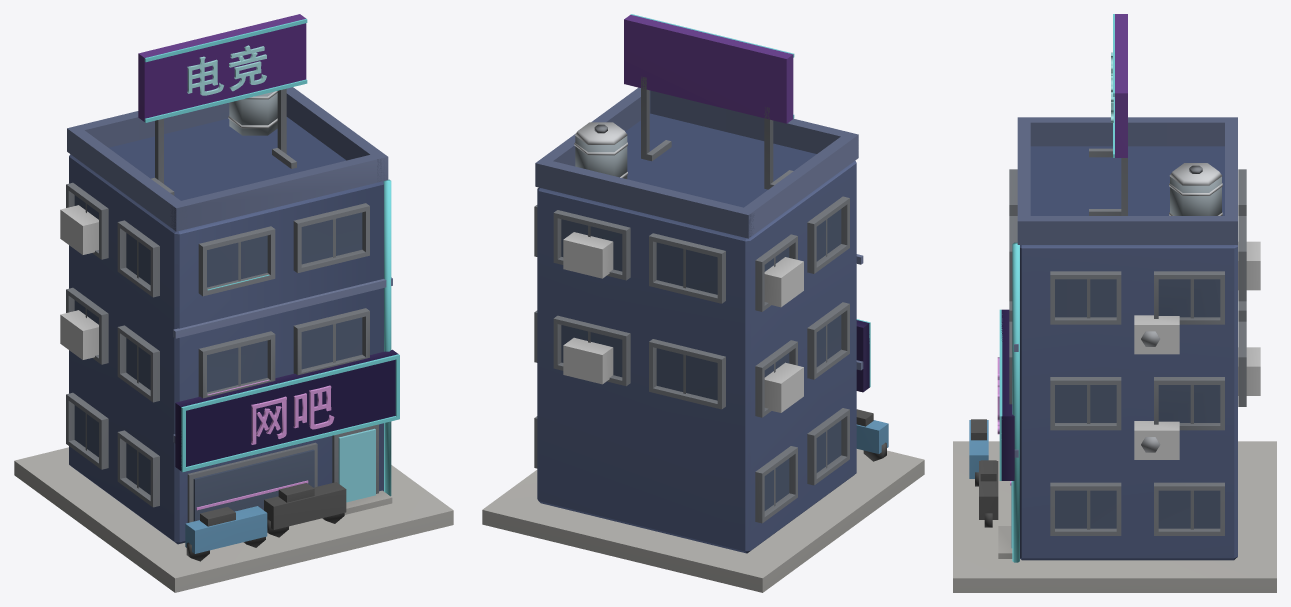
The model's file is net-cafe.glb.
3 renders of one model, left to right at view 1: azimuth 30°, elevation 25°; view 2: azimuth 150°, elevation 25°; view 3: azimuth 270°, elevation 25°, orthographic.
Parts seen in each view (by area): view 1: net-cafe; view 2: net-cafe; view 3: net-cafe.
Part boxes in pixels (x1,y1,x2,y2): net-cafe: [14, 14, 453, 592]; net-cafe: [482, 14, 924, 592]; net-cafe: [953, 14, 1276, 592].
Bounding box in the file's own units: 1 × 1.59 × 1.
